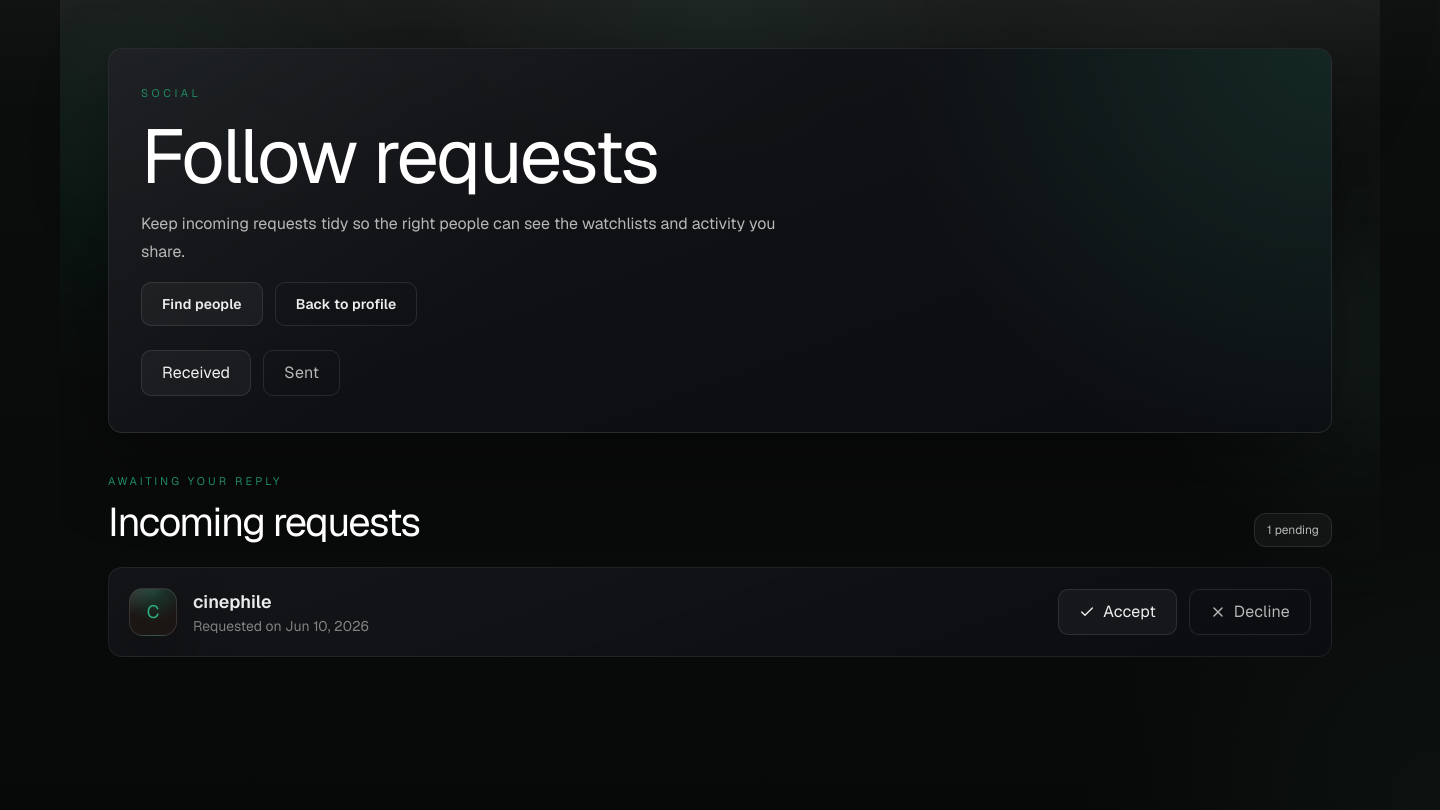
FollowRequestsPage › accepts a request and refreshes the list
expect the link "cinephile" is shown: met, box [193,590,272,613]
What coordinates should you click on to do the following:
click the button "Accept"
I would click on:
 (1118, 612)
Its box is [1058,589,1177,635].
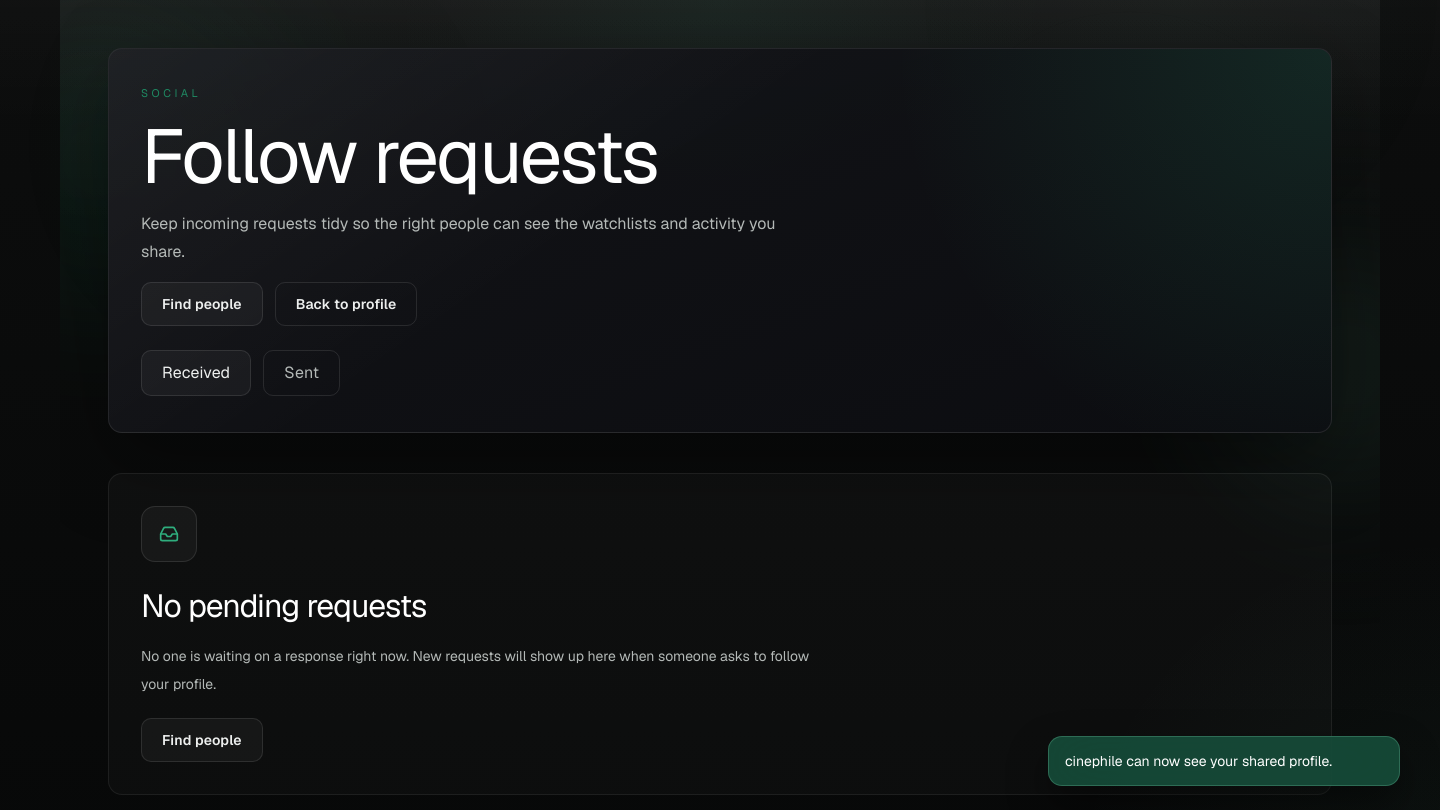
expect the heading "No pending requests" is shown: met, box [141,584,426,626]
